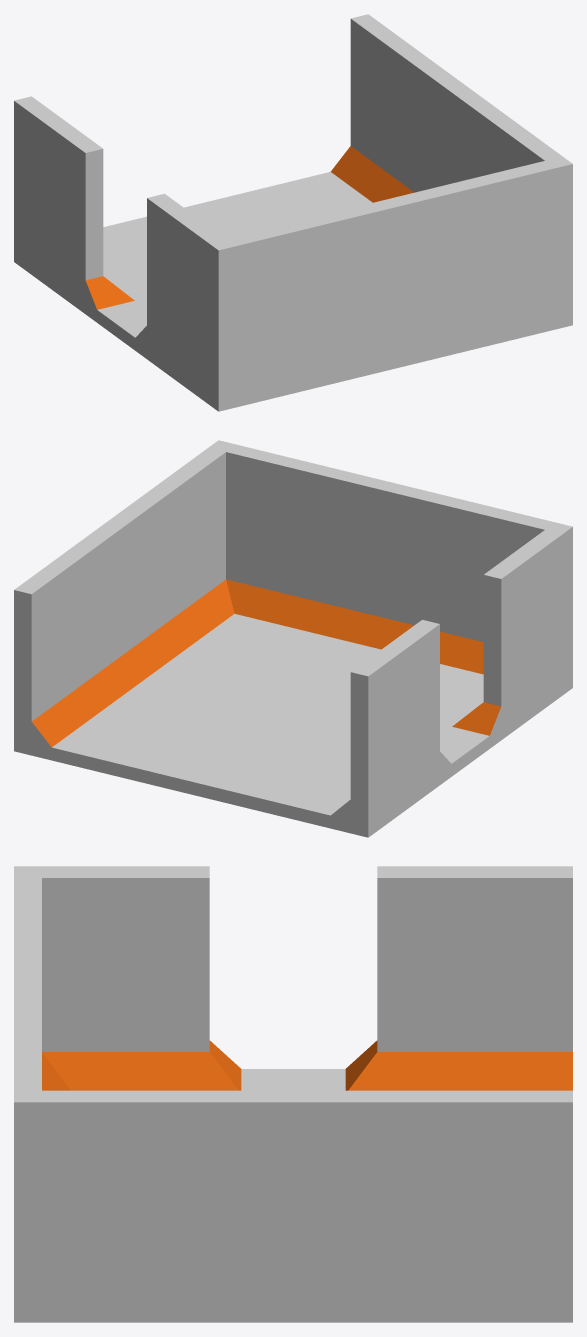
Rendered from 3-wall-1-Door-N.fbx.
3 renders of one model, top to bottom at view 1: azimuth 30°, elevation 25°; view 2: azimuth 150°, elevation 25°; view 3: azimuth 270°, elevation 25°, orthographic. The views are drawn at different scales.
Visible parts, largest first — view 1: Плоскость.025; view 2: Плоскость.025; view 3: Плоскость.025.
Boxes of the visible parts, bbox=[...] form: Плоскость.025: bbox=[14, 14, 572, 411]; Плоскость.025: bbox=[14, 440, 572, 837]; Плоскость.025: bbox=[14, 866, 572, 1322].
Size of the model in its own units: 200 by 87 by 200.
